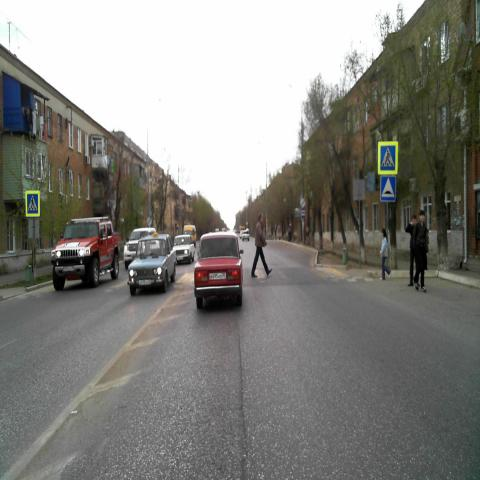5_20: (380, 175, 396, 201)
